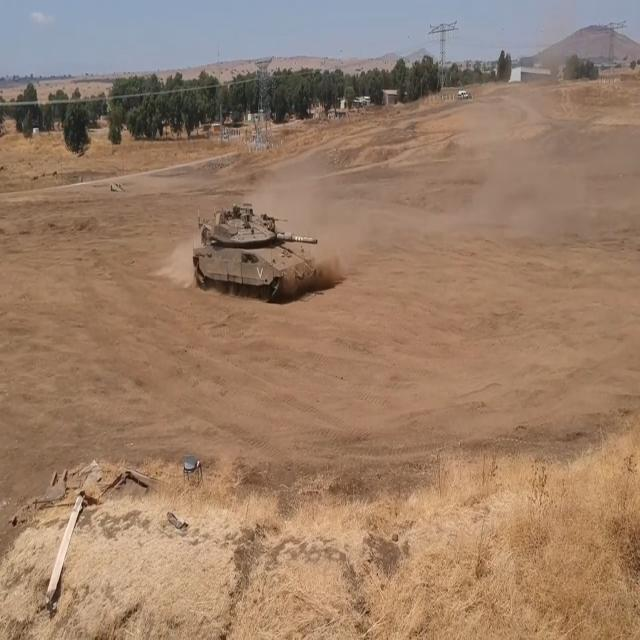tank: (188, 188, 327, 305)
